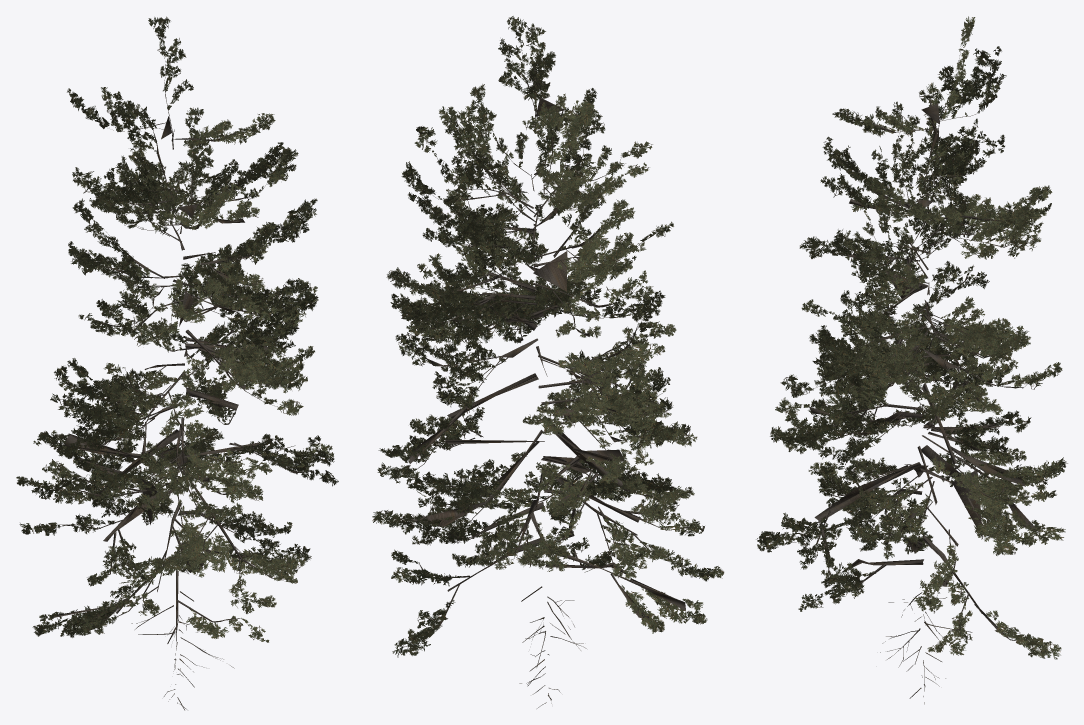
Rendered from pine-sapling-medium-a.glb.
3 views of the same model, side by side, from view 1: azimuth 30°, elevation 25°; view 2: azimuth 150°, elevation 25°; view 3: azimuth 270°, elevation 25° (orthographic). The views are drawn at different scales.
Visible parts, largest first — view 1: pine_sapling_medium_a; view 2: pine_sapling_medium_a; view 3: pine_sapling_medium_a.
Part boxes in pixels (x1=…): pine_sapling_medium_a: x1=16, y1=16, x2=338, y2=710; pine_sapling_medium_a: x1=372, y1=16, x2=724, y2=708; pine_sapling_medium_a: x1=756, y1=16, x2=1067, y2=704.
Size of the model in its own units: 5.25 by 11.51 by 4.77.
Materials: 2 (2 with a texture image).
